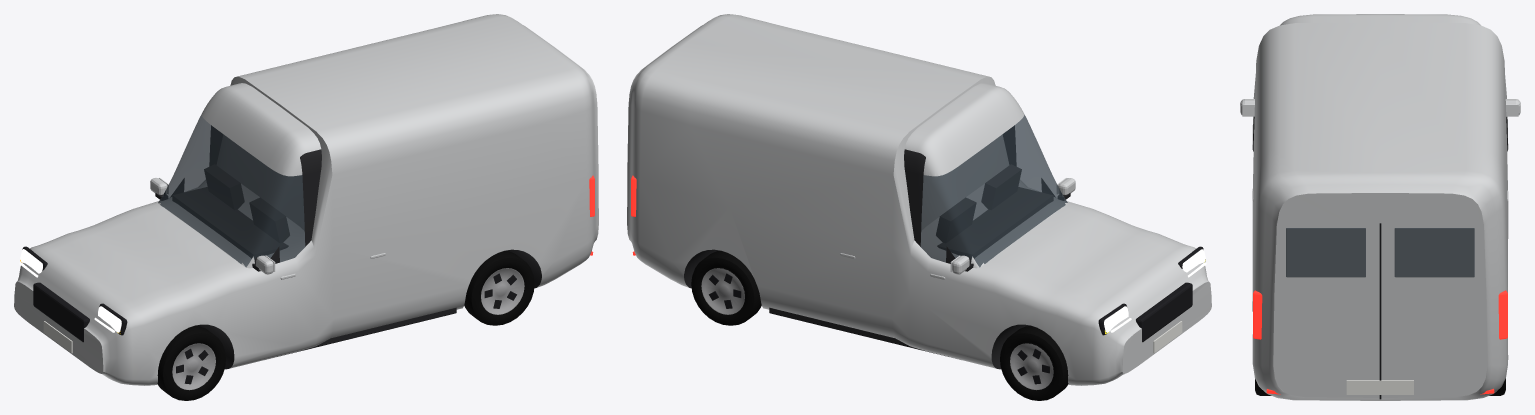
The model's file is van.glb.
3 views of the same model, side by side, from view 1: azimuth 30°, elevation 25°; view 2: azimuth 150°, elevation 25°; view 3: azimuth 270°, elevation 25° (orthographic). The views are drawn at different scales.
Visible parts, largest first — view 1: van-body, wheel-fr, wheel-rr; view 2: van-body, wheel-fl, wheel-rl; view 3: van-body.
Boxes of the visible parts, x1=… form: van-body: x1=14, y1=14, x2=598, y2=385; wheel-fr: x1=157, y1=325, x2=225, y2=400; wheel-rr: x1=464, y1=250, x2=534, y2=325; van-body: x1=627, y1=14, x2=1211, y2=385; wheel-fl: x1=1000, y1=325, x2=1068, y2=400; wheel-rl: x1=691, y1=250, x2=761, y2=325; van-body: x1=1240, y1=14, x2=1520, y2=400.
Size of the model in its own units: 5.32 by 2.3 by 2.17.
Materials: 13 (2 with a texture image).
